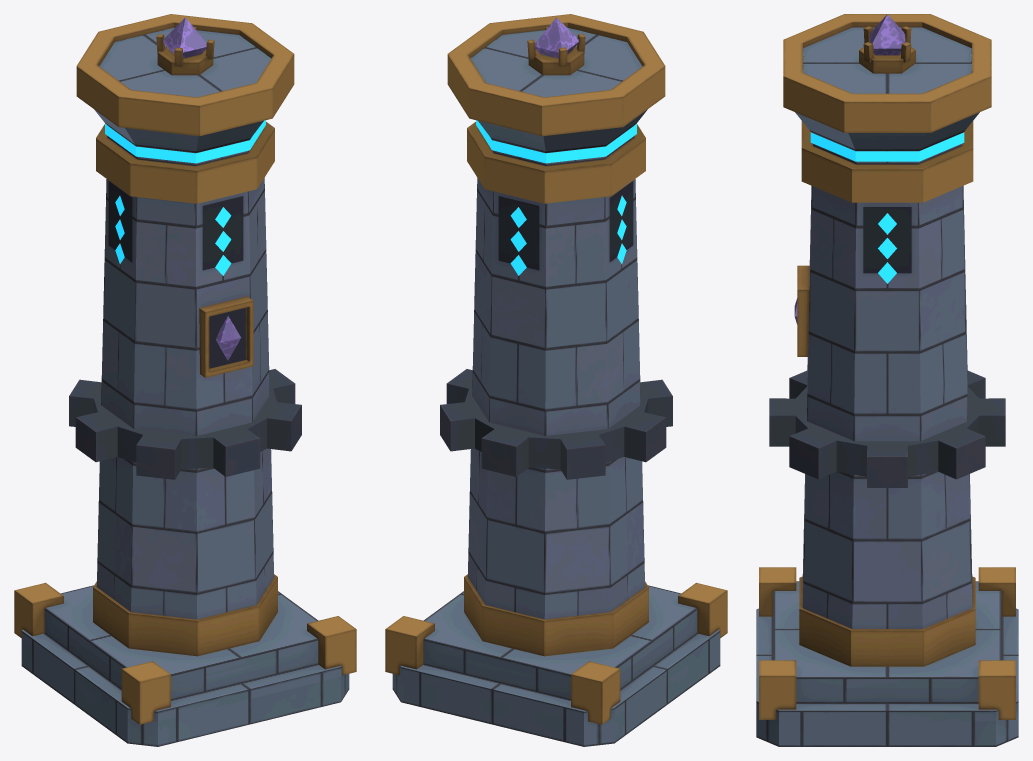
The model's file is rune_pillar_low.glb.
The picture shows the model from 3 angles, left to right: view 1: azimuth 30°, elevation 25°; view 2: azimuth 150°, elevation 25°; view 3: azimuth 270°, elevation 25°; orthographic projection. The views are drawn at different scales.
Parts seen in each view (by area): view 1: stone_shaft, brass_trim, stone_plinth, iron_cog, stone_capital, glow_band, lodestone_inset, glow_runes; view 2: stone_shaft, brass_trim, stone_plinth, iron_cog, stone_capital, glow_band, lodestone_inset, glow_runes; view 3: stone_shaft, brass_trim, stone_plinth, iron_cog, stone_capital, glow_band, lodestone_inset, glow_runes.
Boxes of the visible parts, <box> form: stone_shaft: <box>96,125,274,619</box>; brass_trim: <box>14,14,356,724</box>; stone_plinth: <box>21,585,349,746</box>; iron_cog: <box>69,369,301,479</box>; stone_capital: <box>94,28,271,152</box>; glow_band: <box>105,120,265,163</box>; lodestone_inset: <box>163,17,241,360</box>; glow_runes: <box>115,195,231,275</box>; stone_shaft: <box>467,125,645,619</box>; brass_trim: <box>385,14,727,724</box>; stone_plinth: <box>392,585,720,746</box>; iron_cog: <box>440,369,672,479</box>; stone_capital: <box>470,28,647,152</box>; glow_band: <box>476,120,636,163</box>; lodestone_inset: <box>535,17,578,58</box>; glow_runes: <box>510,195,626,275</box>; stone_shaft: <box>802,133,972,628</box>; brass_trim: <box>759,14,1015,719</box>; stone_plinth: <box>756,581,1018,746</box>; iron_cog: <box>769,370,1005,487</box>; stone_capital: <box>795,27,979,150</box>; glow_band: <box>810,132,964,161</box>; lodestone_inset: <box>794,14,905,324</box>; glow_runes: <box>878,213,896,283</box>.
Bounding box in the file's own units: 0.92 × 2.62 × 0.92.
5 materials, 4 textured.
